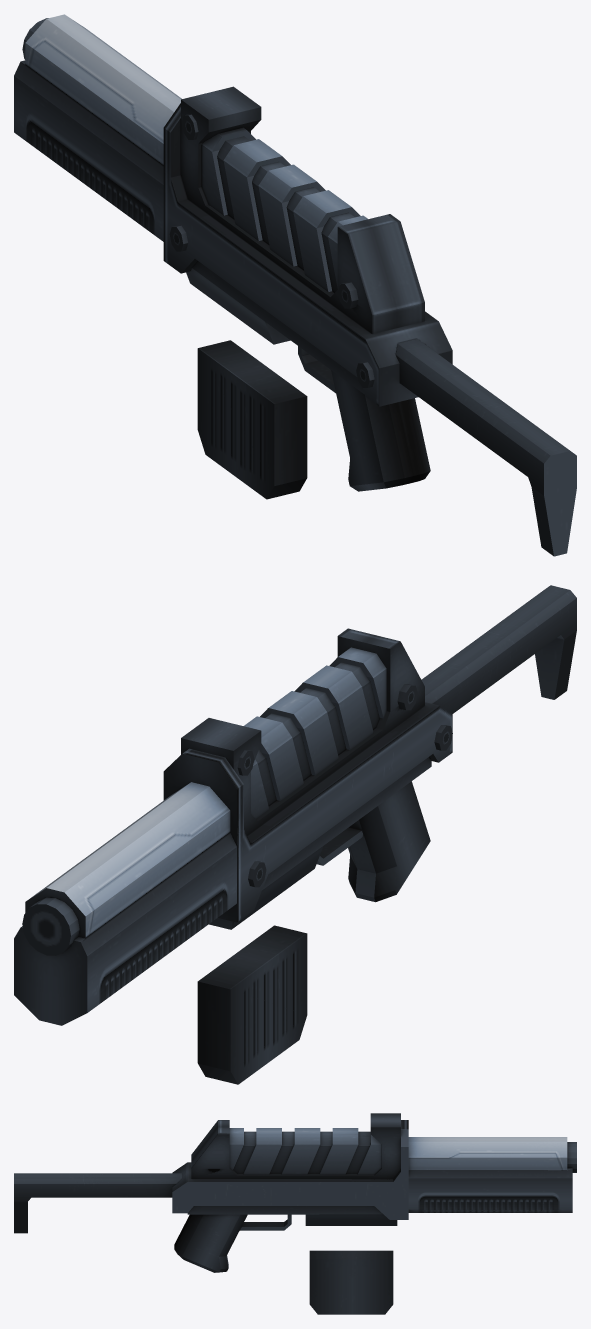
The model's file is Assault Rifle_finished.obj.
3 views of the same model, one above another, from view 1: azimuth 30°, elevation 25°; view 2: azimuth 150°, elevation 25°; view 3: azimuth 270°, elevation 25° (orthographic). The views are drawn at different scales.
Parts seen in each view (by area): view 1: Mesh_Cube_Cube; view 2: Mesh_Cube_Cube; view 3: Mesh_Cube_Cube.
Boxes of the visible parts, x1=… form: Mesh_Cube_Cube: x1=14, y1=14, x2=576, y2=556; Mesh_Cube_Cube: x1=14, y1=585, x2=576, y2=1084; Mesh_Cube_Cube: x1=14, y1=1113, x2=576, y2=1314.
Bounding box in the file's own units: 1.3 × 5.5 × 14.76.
